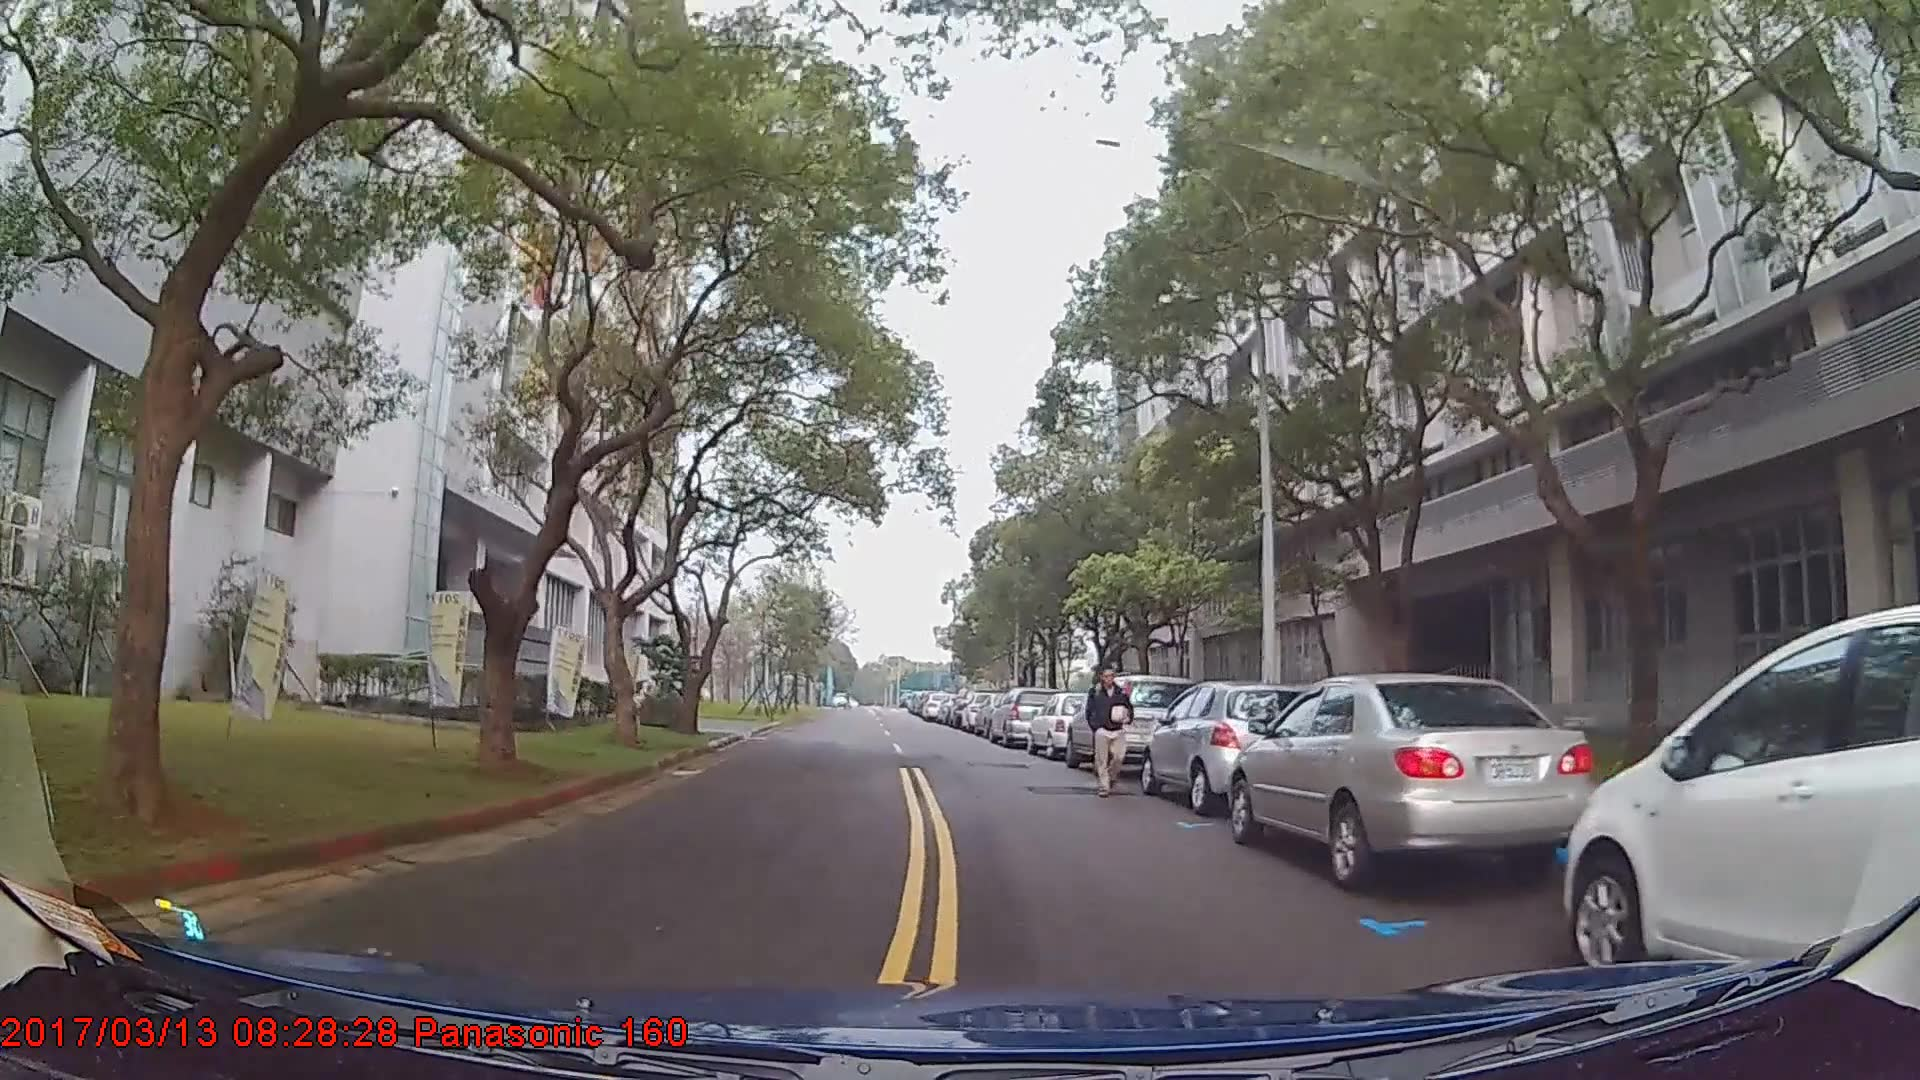pedestrian: (1088, 671, 1137, 798)
vehicle: (1564, 599, 1920, 989), (1228, 668, 1599, 894), (1140, 678, 1317, 816), (1065, 672, 1200, 776), (1025, 690, 1101, 758), (986, 686, 1062, 747)
